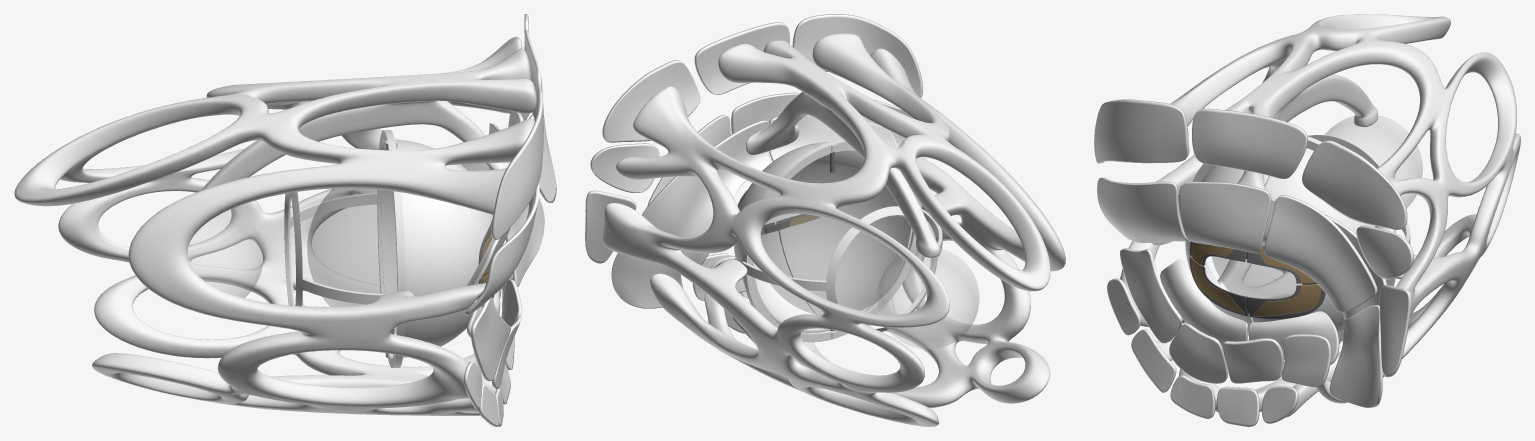
File: symphatic_eye_draco.glb
3 renders of one model, left to right at view 1: azimuth 30°, elevation 25°; view 2: azimuth 150°, elevation 25°; view 3: azimuth 270°, elevation 25°, orthographic. The views are drawn at different scales.
Parts seen in each view (by area): view 1: backobj2(6A2AFE2C-17B3-454C-A26D-C7F89EE7CDE0), face2(60D54DBF-6707-4EA3-86E7-938D284A7E01), eyeball2(245463F2-D720-4BA3-96F3-92A0A26800F0), Layer 03(556131D1-140D-4EE6-8BC2-88CFD28135E4), Layer 03(143C93B9-9A65-481C-BA0E-18CB47DD3C3D), Layer 05(876AB7D2-BCBB-47B8-9987-E21C76E21DCC), Layer 05(76F17C8F-D341-43CC-A583-EF664C230679), eyeball(4D0A8C52-97C8-4DEB-8864-66B2F6092446), face2(021B373E-D235-4D30-9A2E-C11AE819CBC6); view 2: backobj2(6A2AFE2C-17B3-454C-A26D-C7F89EE7CDE0), face2(60D54DBF-6707-4EA3-86E7-938D284A7E01), Layer 03(556131D1-140D-4EE6-8BC2-88CFD28135E4), eyeball2(245463F2-D720-4BA3-96F3-92A0A26800F0), face2(021B373E-D235-4D30-9A2E-C11AE819CBC6), Layer 03(143C93B9-9A65-481C-BA0E-18CB47DD3C3D), eyeball(4D0A8C52-97C8-4DEB-8864-66B2F6092446), Layer 05(76F17C8F-D341-43CC-A583-EF664C230679), Layer 05(876AB7D2-BCBB-47B8-9987-E21C76E21DCC); view 3: face2(60D54DBF-6707-4EA3-86E7-938D284A7E01), backobj2(6A2AFE2C-17B3-454C-A26D-C7F89EE7CDE0), face2(021B373E-D235-4D30-9A2E-C11AE819CBC6), Layer 03(143C93B9-9A65-481C-BA0E-18CB47DD3C3D), Layer 03(556131D1-140D-4EE6-8BC2-88CFD28135E4), eyeball(4D0A8C52-97C8-4DEB-8864-66B2F6092446), eyecolor2(17D5601C-E4CE-4B9F-87A1-18B8A432BFAD), eyeball2(245463F2-D720-4BA3-96F3-92A0A26800F0), eyecolor2(187932F1-15FA-4686-BD4F-27A44E0F44D4), Layer 01(F42EA3EF-1D5A-4140-B3BC-B217B113D519), Layer 01(82EE4538-2ED8-43BE-B694-5B99B066EF90), Layer 05(876AB7D2-BCBB-47B8-9987-E21C76E21DCC) (+3 smaller).
Boxes of the visible parts, left/top/right/bottom form: backobj2(6A2AFE2C-17B3-454C-A26D-C7F89EE7CDE0): left=14, top=36, right=536, bottom=415; face2(60D54DBF-6707-4EA3-86E7-938D284A7E01): left=464, top=14, right=556, bottom=426; eyeball2(245463F2-D720-4BA3-96F3-92A0A26800F0): left=393, top=150, right=492, bottom=357; Layer 03(556131D1-140D-4EE6-8BC2-88CFD28135E4): left=307, top=188, right=396, bottom=332; Layer 03(143C93B9-9A65-481C-BA0E-18CB47DD3C3D): left=187, top=207, right=263, bottom=297; Layer 05(876AB7D2-BCBB-47B8-9987-E21C76E21DCC): left=284, top=192, right=383, bottom=306; Layer 05(76F17C8F-D341-43CC-A583-EF664C230679): left=377, top=130, right=405, bottom=367; eyeball(4D0A8C52-97C8-4DEB-8864-66B2F6092446): left=381, top=139, right=467, bottom=334; face2(021B373E-D235-4D30-9A2E-C11AE819CBC6): left=467, top=123, right=510, bottom=338; backobj2(6A2AFE2C-17B3-454C-A26D-C7F89EE7CDE0): left=602, top=33, right=1065, bottom=426; face2(60D54DBF-6707-4EA3-86E7-938D284A7E01): left=585, top=14, right=925, bottom=333; Layer 03(556131D1-140D-4EE6-8BC2-88CFD28135E4): left=761, top=164, right=907, bottom=314; eyeball2(245463F2-D720-4BA3-96F3-92A0A26800F0): left=779, top=141, right=912, bottom=314; face2(021B373E-D235-4D30-9A2E-C11AE819CBC6): left=642, top=115, right=897, bottom=292; Layer 03(143C93B9-9A65-481C-BA0E-18CB47DD3C3D): left=877, top=248, right=979, bottom=348; eyeball(4D0A8C52-97C8-4DEB-8864-66B2F6092446): left=734, top=145, right=830, bottom=332; Layer 05(76F17C8F-D341-43CC-A583-EF664C230679): left=742, top=139, right=921, bottom=342; Layer 05(876AB7D2-BCBB-47B8-9987-E21C76E21DCC): left=741, top=206, right=942, bottom=331; face2(60D54DBF-6707-4EA3-86E7-938D284A7E01): left=1094, top=99, right=1413, bottom=426; backobj2(6A2AFE2C-17B3-454C-A26D-C7F89EE7CDE0): left=1120, top=14, right=1520, bottom=417; face2(021B373E-D235-4D30-9A2E-C11AE819CBC6): left=1151, top=192, right=1386, bottom=364; Layer 03(143C93B9-9A65-481C-BA0E-18CB47DD3C3D): left=1325, top=115, right=1422, bottom=208; Layer 03(556131D1-140D-4EE6-8BC2-88CFD28135E4): left=1212, top=256, right=1301, bottom=298; eyeball(4D0A8C52-97C8-4DEB-8864-66B2F6092446): left=1252, top=148, right=1375, bottom=333; eyecolor2(17D5601C-E4CE-4B9F-87A1-18B8A432BFAD): left=1252, top=284, right=1321, bottom=316; eyeball2(245463F2-D720-4BA3-96F3-92A0A26800F0): left=1185, top=165, right=1269, bottom=335; eyecolor2(187932F1-15FA-4686-BD4F-27A44E0F44D4): left=1191, top=258, right=1244, bottom=313; Layer 01(F42EA3EF-1D5A-4140-B3BC-B217B113D519): left=1247, top=285, right=1325, bottom=318; Layer 01(82EE4538-2ED8-43BE-B694-5B99B066EF90): left=1189, top=256, right=1248, bottom=316; Layer 05(876AB7D2-BCBB-47B8-9987-E21C76E21DCC): left=1308, top=135, right=1410, bottom=244.
Size of the model in its own units: 6.26 by 3.88 by 4.54.
20 materials, 4 textured.
